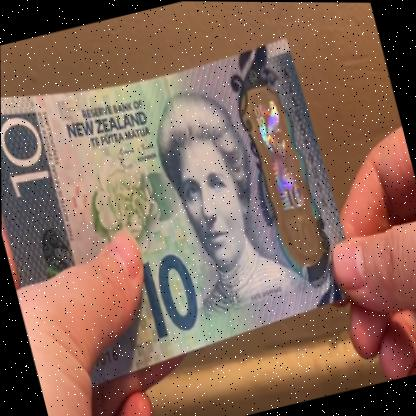10B: (248, 90, 321, 259)
